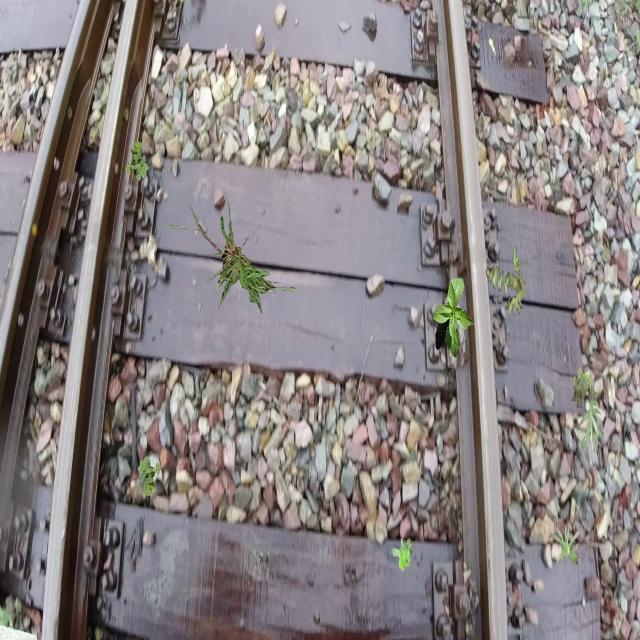Plant: (166, 194, 310, 314), (433, 278, 475, 358), (486, 245, 528, 316), (577, 399, 604, 456), (549, 520, 582, 566), (572, 366, 598, 408), (125, 141, 149, 182), (138, 456, 162, 497), (392, 538, 412, 571)
